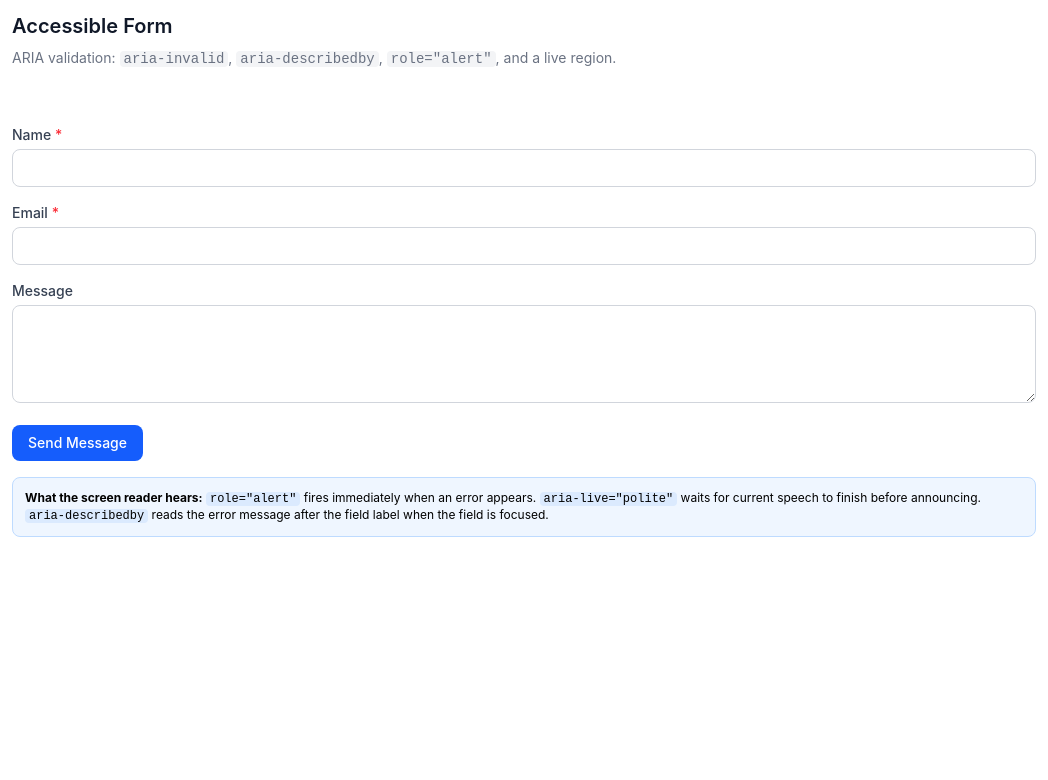
it: AccessibleFormSection › submit with all errors shows "Form has 2 errors" in live region
Click the button "Send Message" at (78, 443), box left=12, top=425, right=143, bottom=461
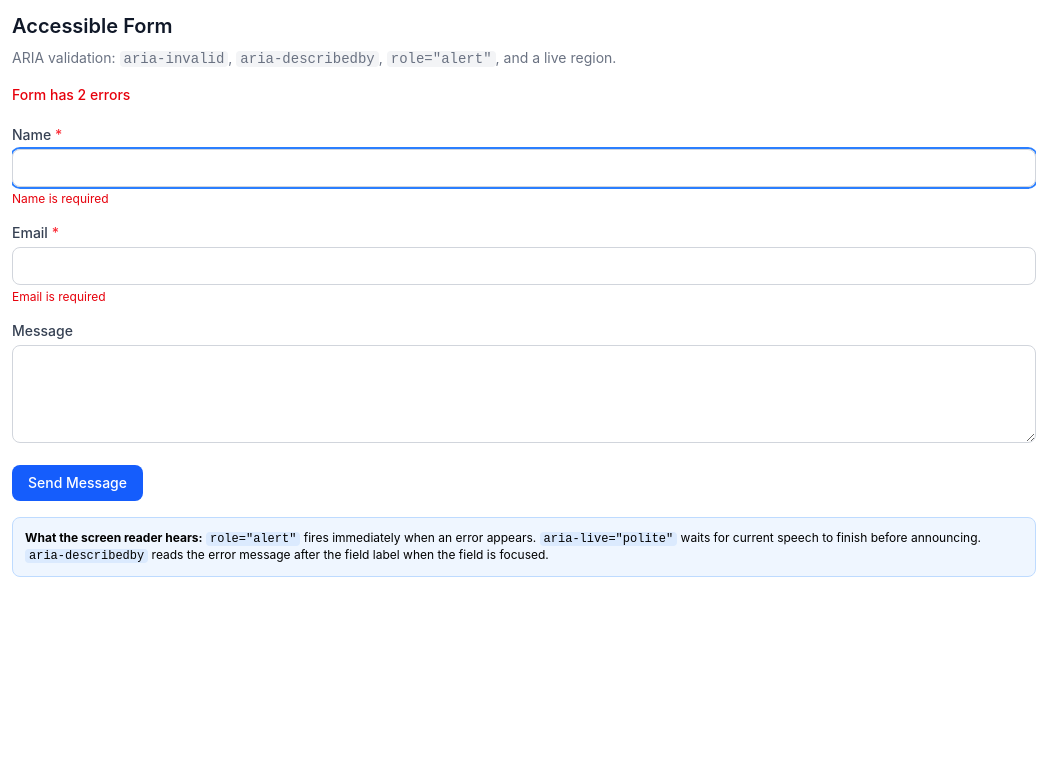
Expected: the element with test id "form-live-region" reads "Form has 2 errors", left=12, top=86, right=130, bottom=103
